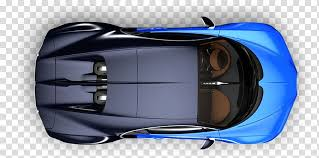car: (34, 18, 302, 147)
